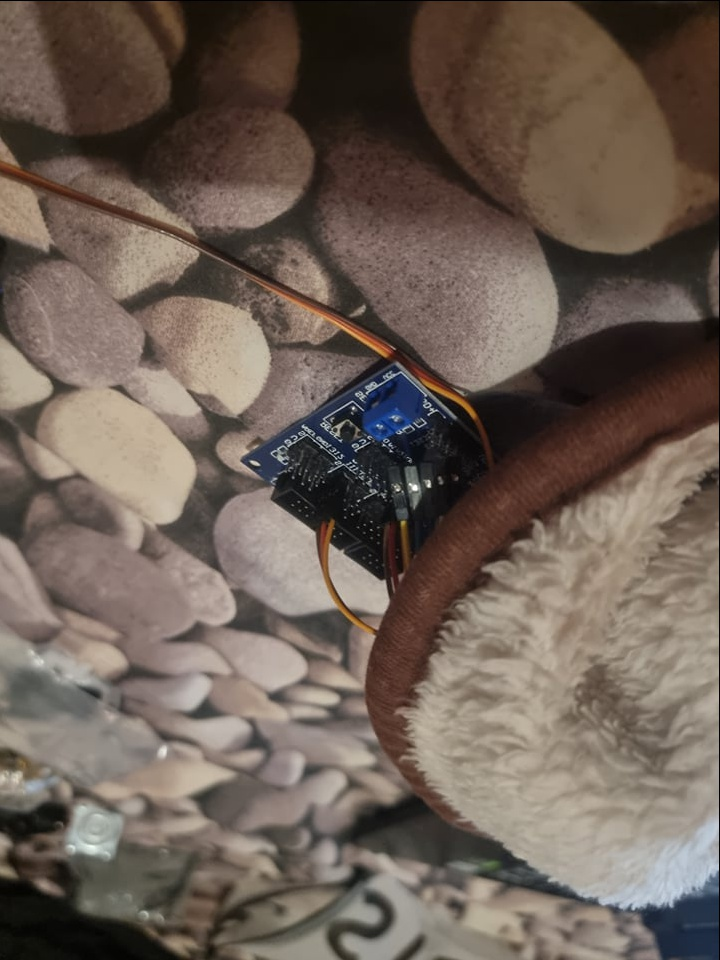5V EXPANSION: (239, 354, 499, 581)
